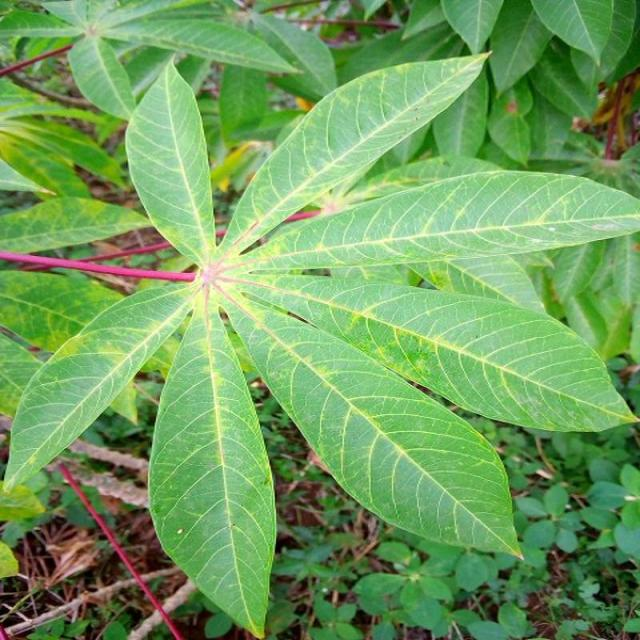cassava leaf: (1, 45, 638, 634), (216, 48, 492, 257), (146, 291, 277, 637), (123, 55, 217, 268)
